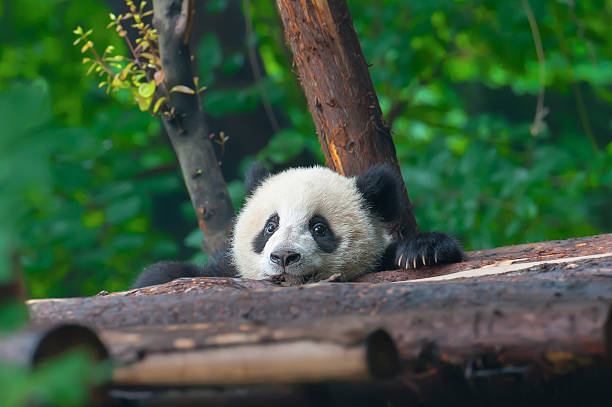panda: (209, 132, 403, 307)
